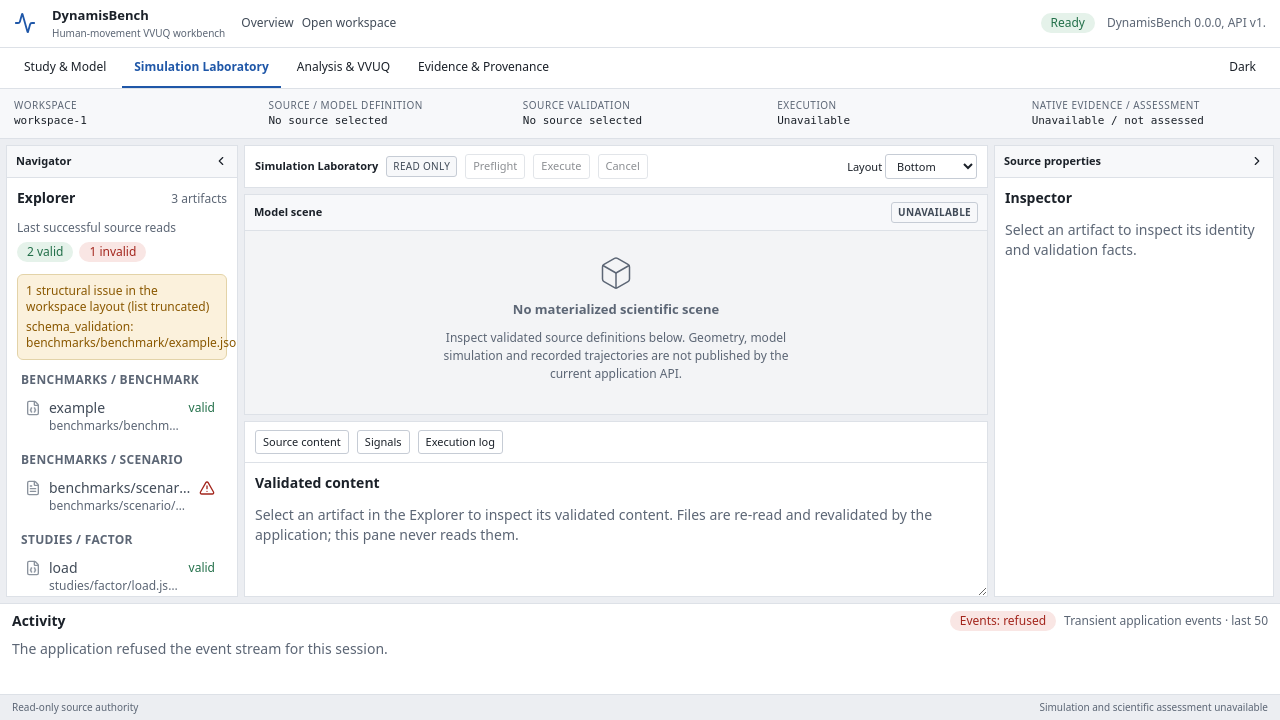
it: the workspace workbench › renders validated content as structure and the documented inspector facts
Expected: the heading "Explorer" is shown, x1=17 y1=188 x2=75 y2=208
Click the option "example benchmarks/benchmark/example.json valid". click: (120, 416)
box: x1=17 y1=392 x2=223 y2=440
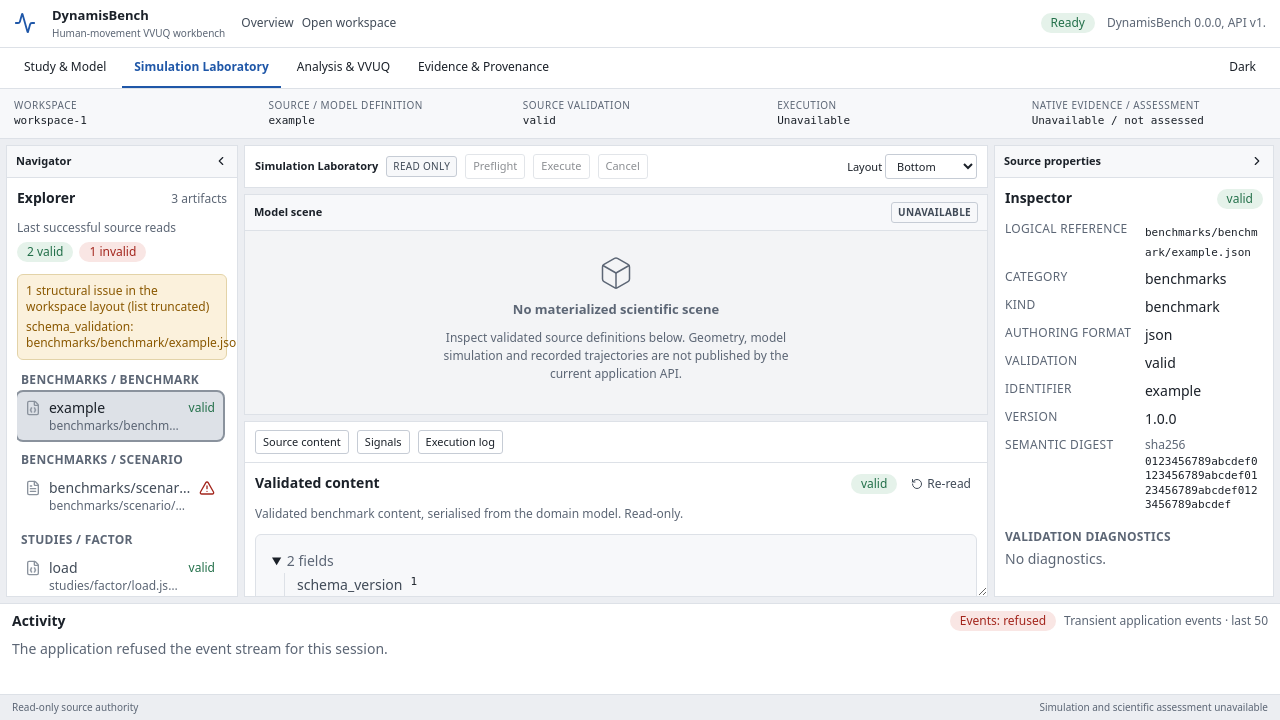
Now the text "schema_version" is shown, box x1=297 y1=575 x2=402 y2=595
Now the text "benchmarks/benchmark/example.json" next to "Logical reference" is shown, box x1=1145 y1=226 x2=1258 y2=258
Now the text "benchmarks" is shown, box x1=1145 y1=268 x2=1226 y2=288
